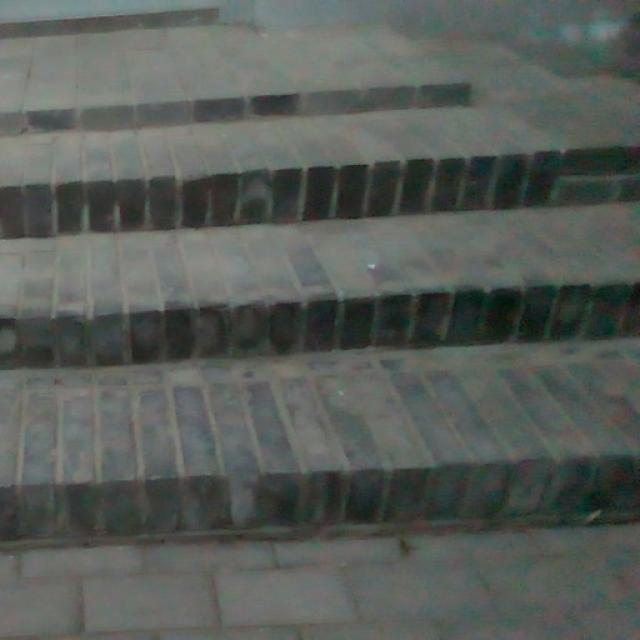stair: (12, 32, 616, 534)
